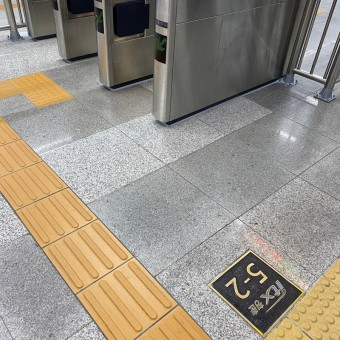guideBlock: (84, 270, 185, 331), (45, 228, 135, 278), (22, 192, 92, 236), (4, 167, 70, 207), (2, 139, 41, 171)
